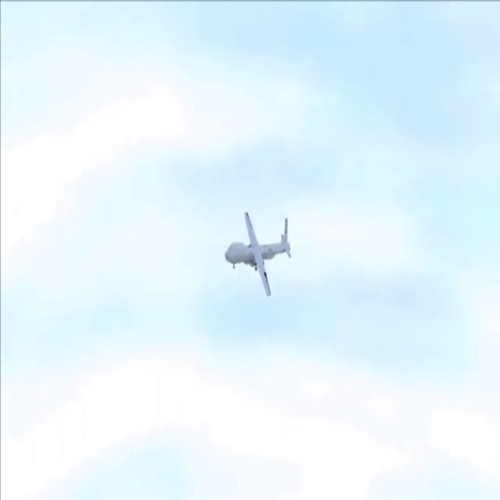uav: (221, 209, 295, 297)
